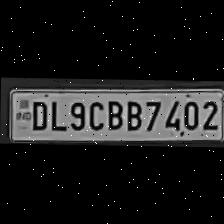0: (180, 96, 198, 129)
2: (198, 95, 218, 130)
4: (160, 96, 180, 132)
7: (140, 96, 160, 131)
9: (65, 96, 87, 130)
B: (104, 96, 124, 130), (122, 96, 142, 130)
C: (84, 96, 104, 129)
D: (27, 96, 49, 130)
L: (46, 97, 66, 131)
